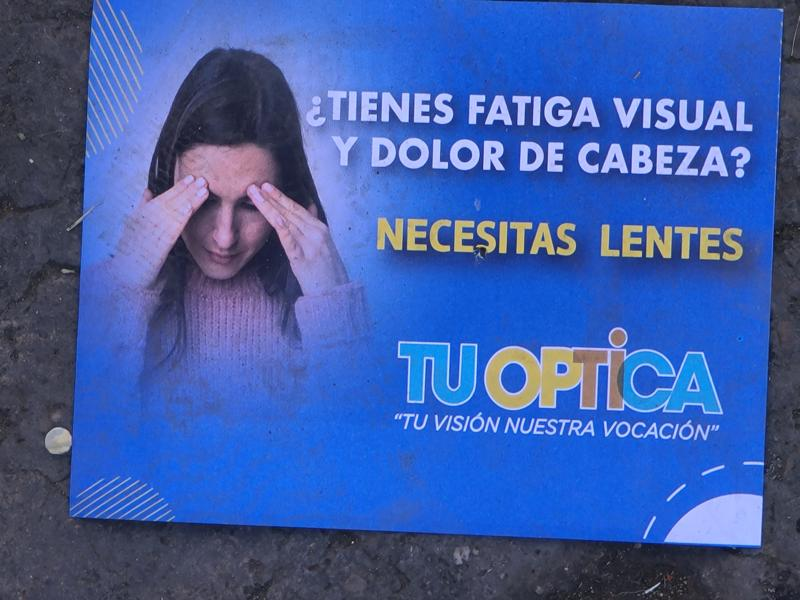papel: (62, 0, 789, 555)
